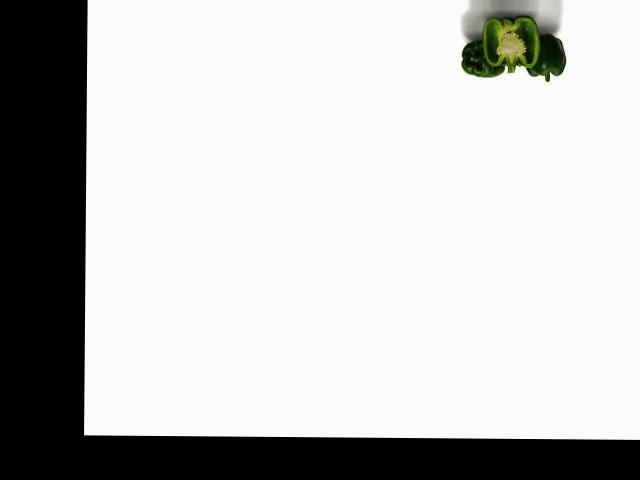bell_pepper: (457, 34, 509, 81)
